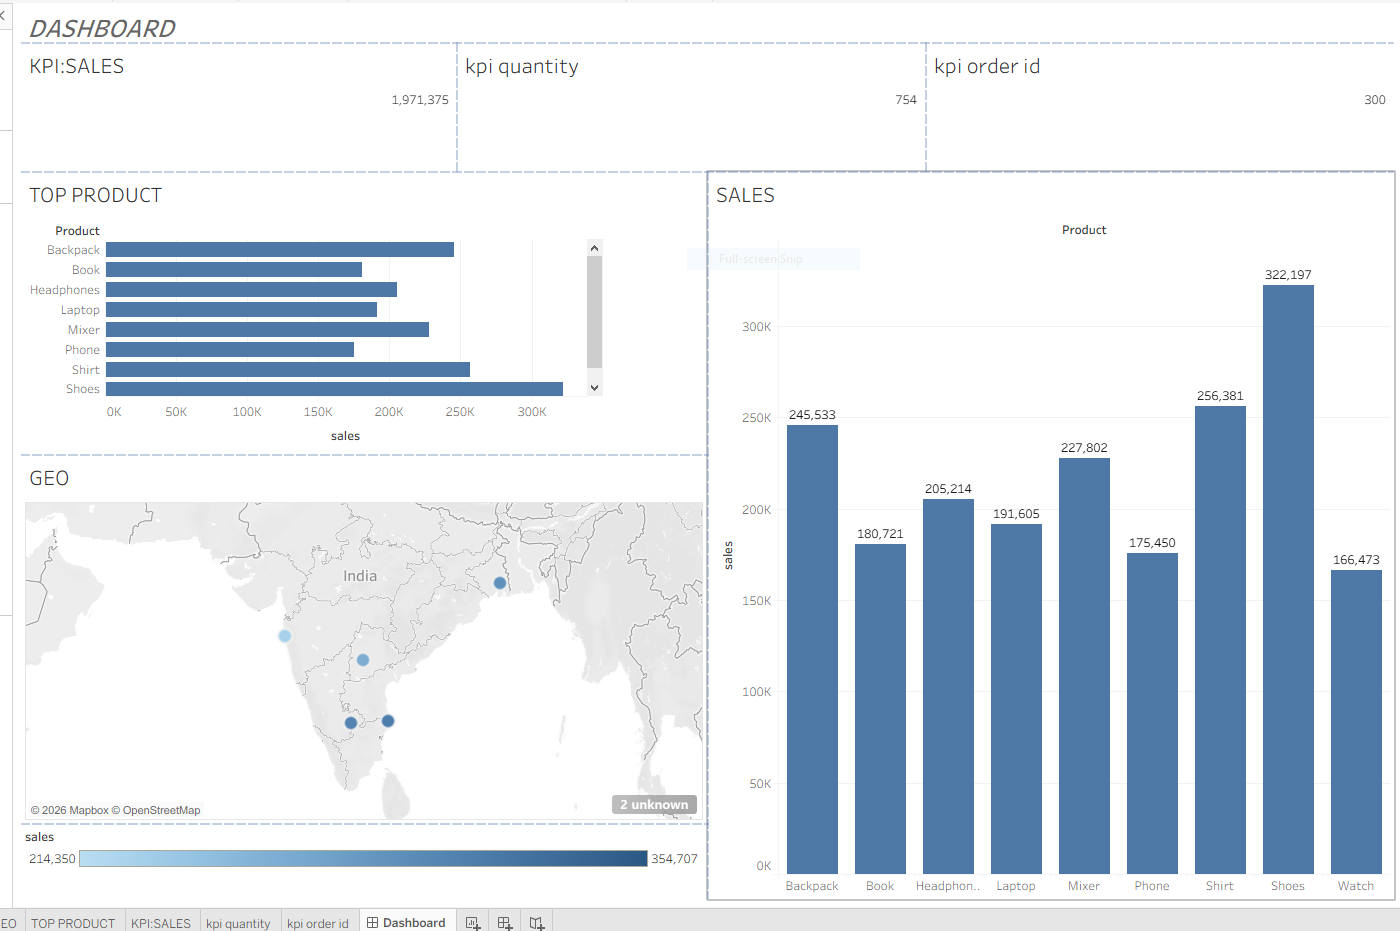

The page's visual inventory and layout, read from the dashboard file:
{"tool":"tableau","page":{"name":"Dashboard ","canvas":[1000,1000],"units":"permille","ordinal":0},"visuals":[{"type":"text","box":[4.7,8.8,990.6,35.4]},{"type":"worksheet","title":"KPI:SALES","mark":"Automatic","box":[4.7,44.2,314.8,142.7]},{"type":"worksheet","title":"kpi quantity","mark":"Automatic","box":[319.5,44.2,337.9,142.7]},{"type":"worksheet","title":"kpi order id","mark":"Automatic","box":[657.4,44.2,337.9,142.7]},{"type":"worksheet","title":"TOP PRODUCT","mark":"Automatic","rows":["Product"],"cols":["Calculation_0978601832054784"],"box":[4.7,187,495.3,313.1]},{"type":"worksheet","title":"SALES","mark":"Automatic","rows":["Calculation_0978601832054784"],"cols":["Product"],"box":[500,187,495.3,804.2]},{"type":"worksheet","title":"GEO","mark":"Automatic","box":[4.7,500,495.3,408.2]},{"type":"legend","title":"GEO","param":"[federated.1krflb208336qn1gubuk41n3qo9h].[sum:Calculation_0978601832054784:qk]","box":[4.7,908.2,495.3,83]}]}

Visuals, with their boxes on the dashboard's canvas, which has no fixed pixel size, in thousandths of its width and height (x1, y1, x2, y2). These are canvas units, not pixel positions in the 1400x931 screenshot, which may show the page scaled, cropped or inside an application window:
text: rect(5, 9, 995, 44)
"KPI:SALES" worksheet: rect(5, 44, 320, 187)
"kpi quantity" worksheet: rect(320, 44, 657, 187)
"kpi order id" worksheet: rect(657, 44, 995, 187)
"TOP PRODUCT" worksheet: rect(5, 187, 500, 500)
"SALES" worksheet: rect(500, 187, 995, 991)
"GEO" worksheet: rect(5, 500, 500, 908)
"GEO" legend: rect(5, 908, 500, 991)
